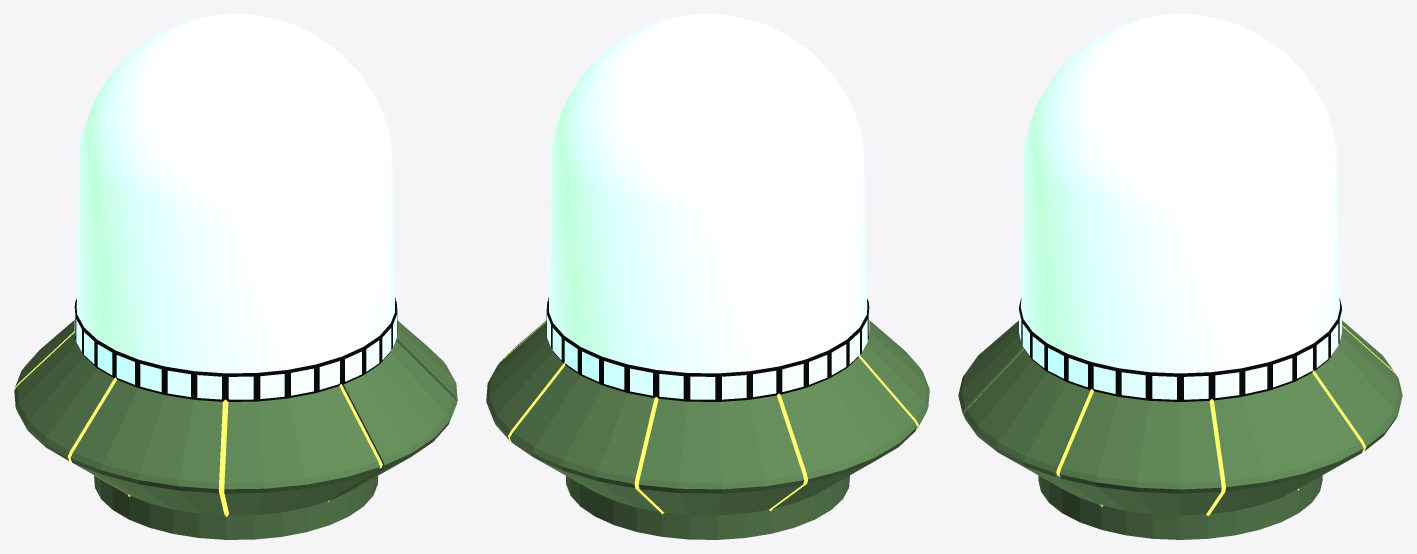
The model's file is green ship.fbx.
3 views of the same model, side by side, from view 1: azimuth 30°, elevation 25°; view 2: azimuth 150°, elevation 25°; view 3: azimuth 270°, elevation 25° (orthographic).
Visible parts, largest first — view 1: Sphere green emission, Circle; view 2: Sphere green emission, Circle; view 3: Sphere green emission, Circle.
Boxes of the visible parts, x1,y1,x2,y2 form: Sphere green emission: [76, 14, 394, 373]; Circle: [14, 297, 457, 539]; Sphere green emission: [549, 14, 867, 373]; Circle: [486, 297, 929, 539]; Sphere green emission: [1021, 14, 1339, 373]; Circle: [958, 298, 1402, 539].
Size of the model in its own units: 73.01 by 81.77 by 73.01.
